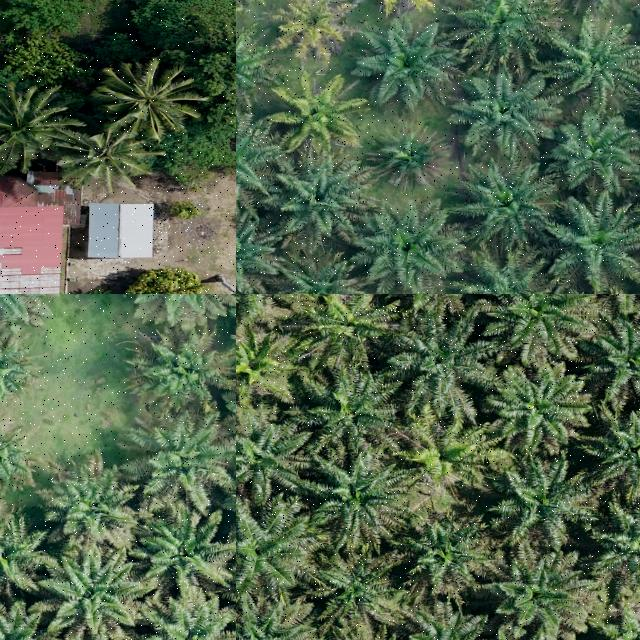Ganoderma: (410, 429, 474, 490), (283, 0, 345, 48), (287, 88, 341, 138), (236, 339, 283, 396)
